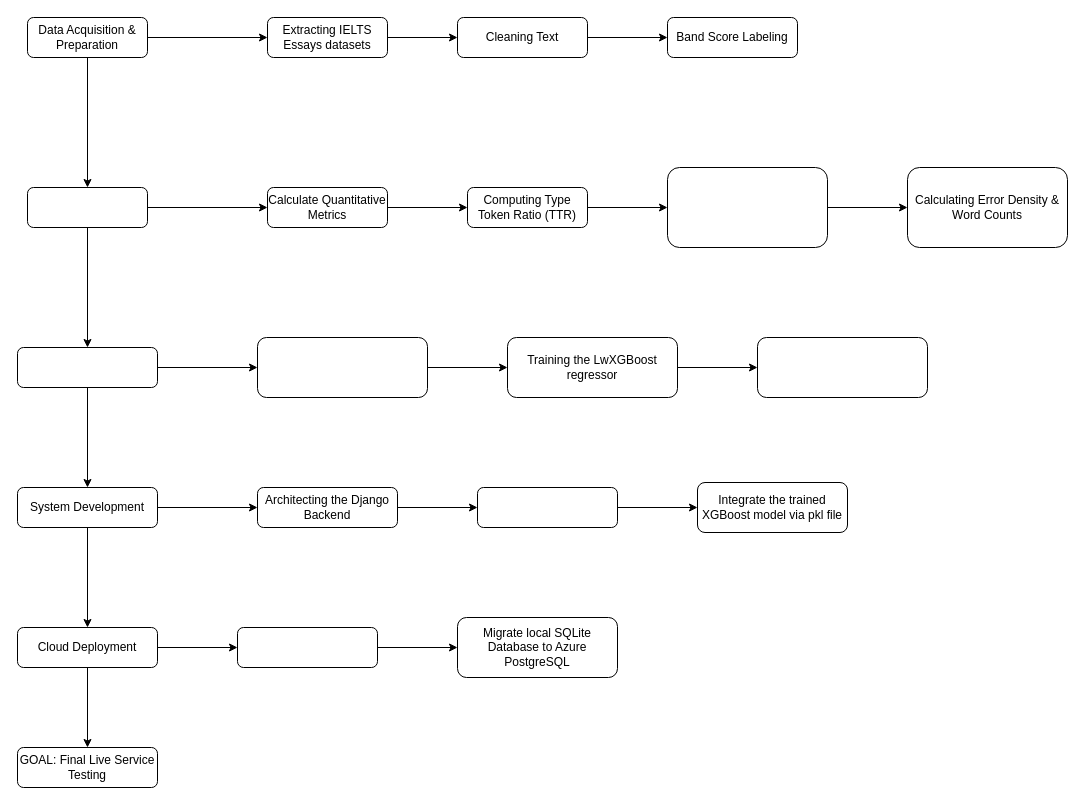
The diagram is 1085 pixels wide and 805 high, and some of its shapes have lost their labels. Here are the shapes that lost their labels. From the top down, the centre of each, then its label:
At pixel 87 207: "Linguistic Feature Engineering".
At pixel 747 207: "Dependency Parsing (Measuring Sentence Complexity)".
At pixel 87 367: "Hybrid Model Training".
At pixel 342 367: "Fine Tuning BERT (generate semantic embeddings)".
At pixel 842 367: "Validate Model Accuracy".
At pixel 547 507: "Develop PostgreSQL schema".
At pixel 307 647: "Configure Azure App Service".
